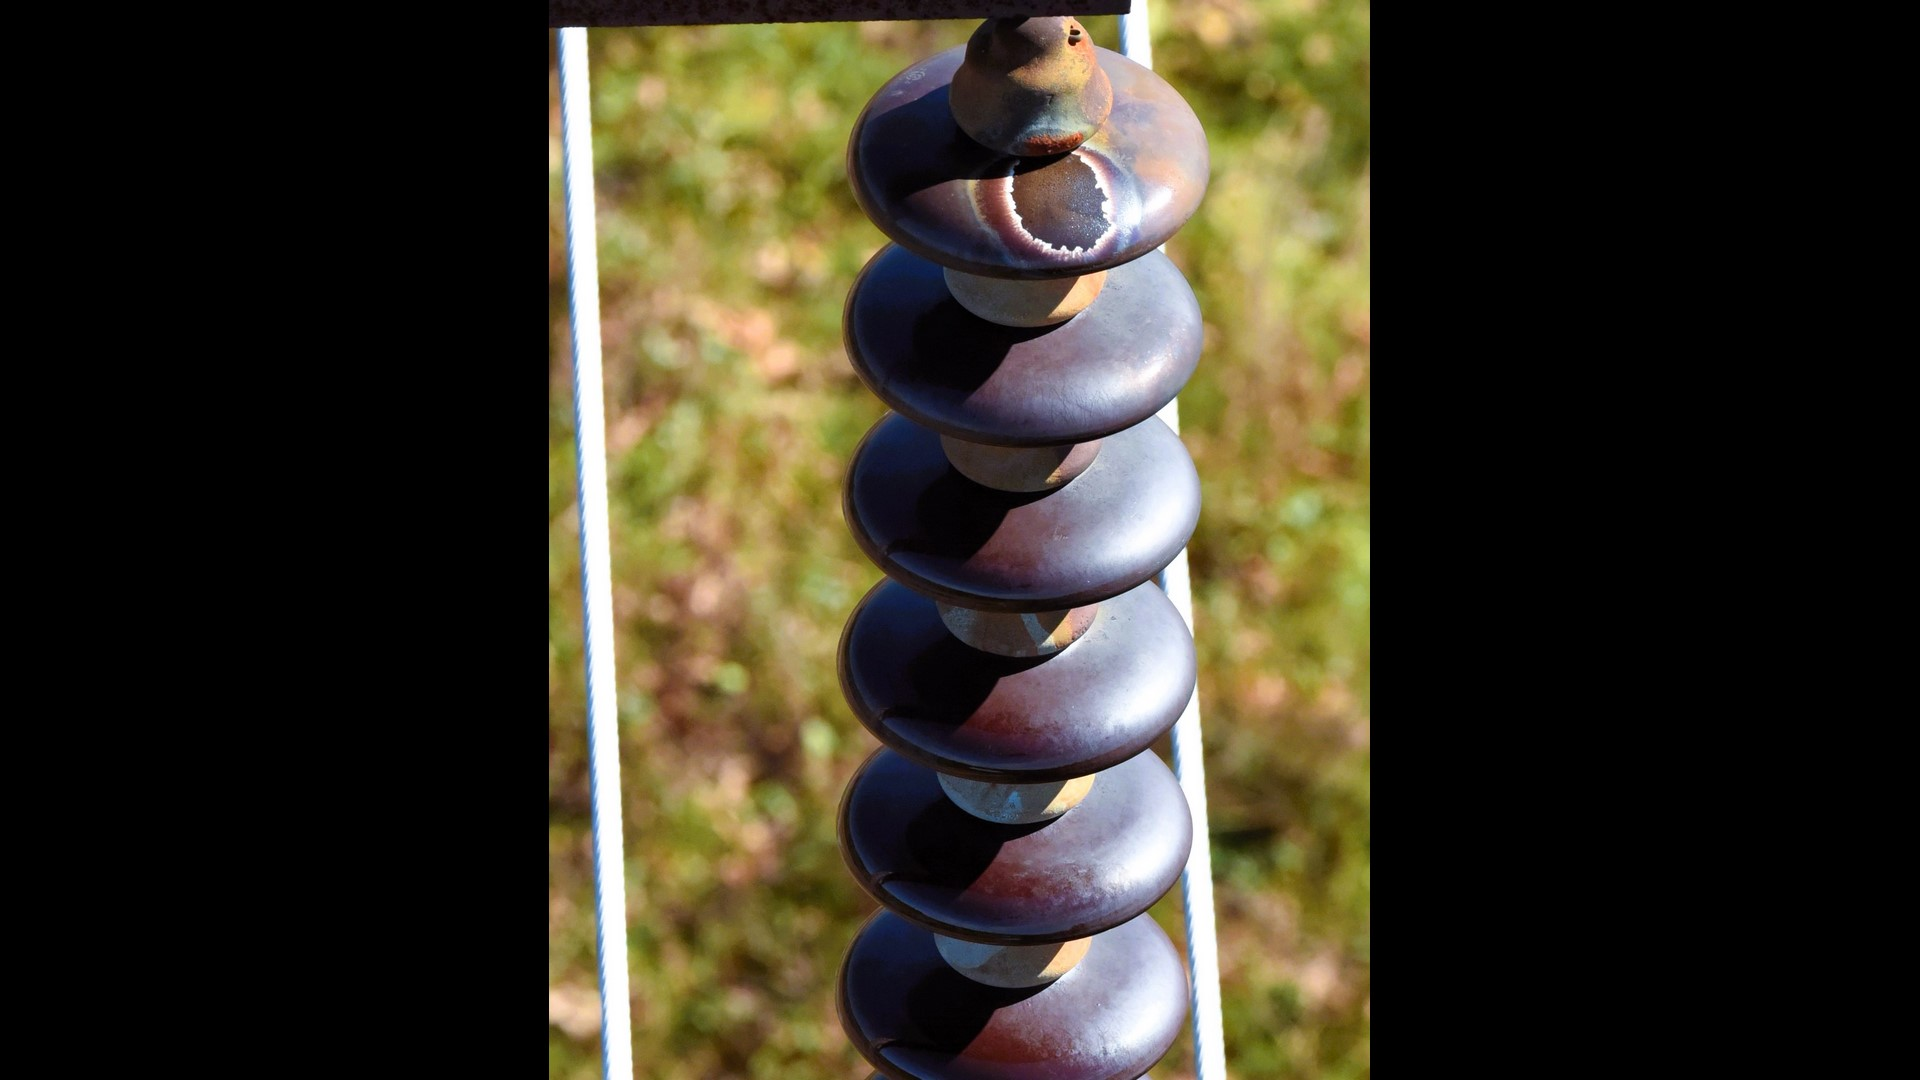Insulator flashover: (843, 47, 1226, 280)
